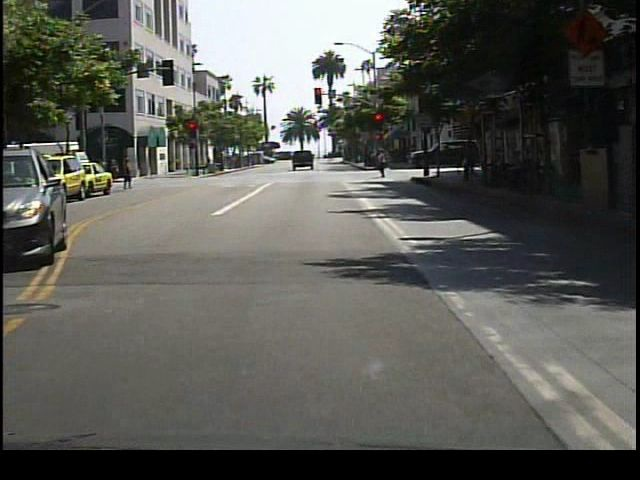person: (460, 138, 479, 180), (375, 148, 393, 180), (120, 157, 135, 192)
